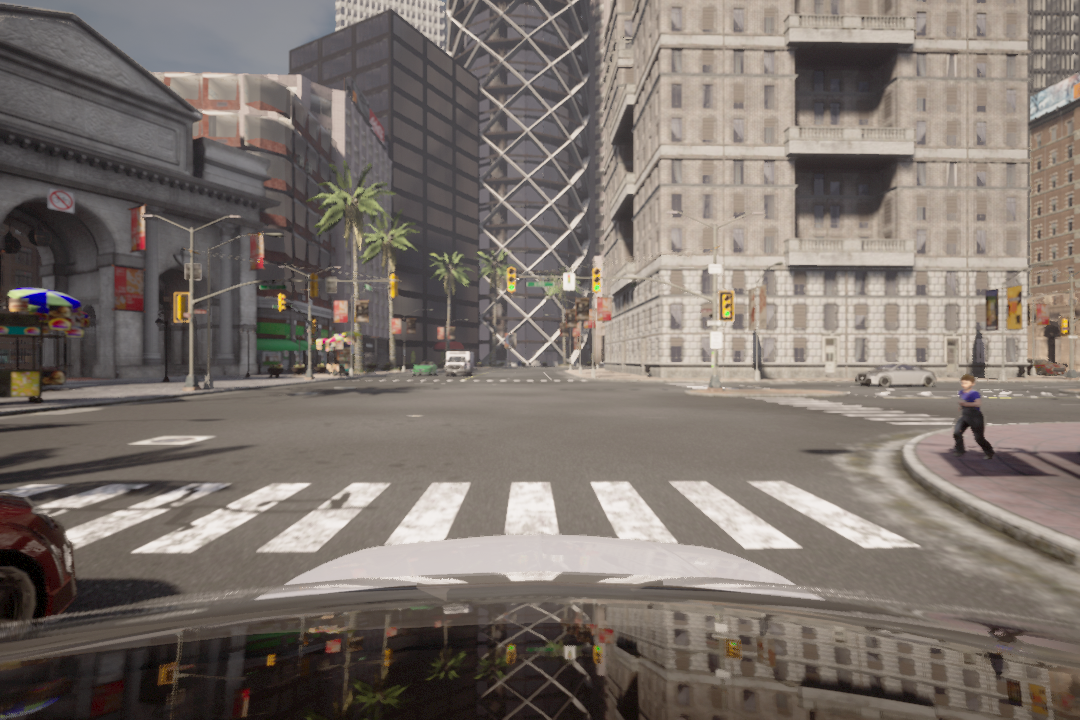TrafficLight: (719, 292, 737, 321), (592, 269, 605, 294), (506, 268, 517, 294)
TrafficSign: (47, 188, 75, 212)
walkside: (1, 481, 904, 564)
